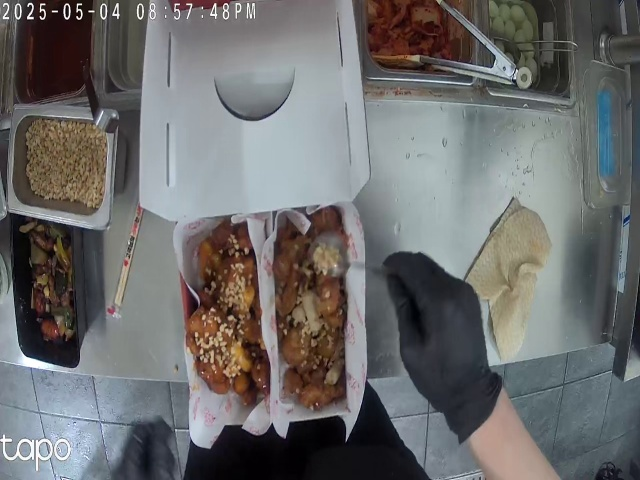delivery box: (163, 0, 359, 416)
food: (270, 226, 350, 412), (186, 225, 255, 397)
hand: (391, 244, 513, 437)
